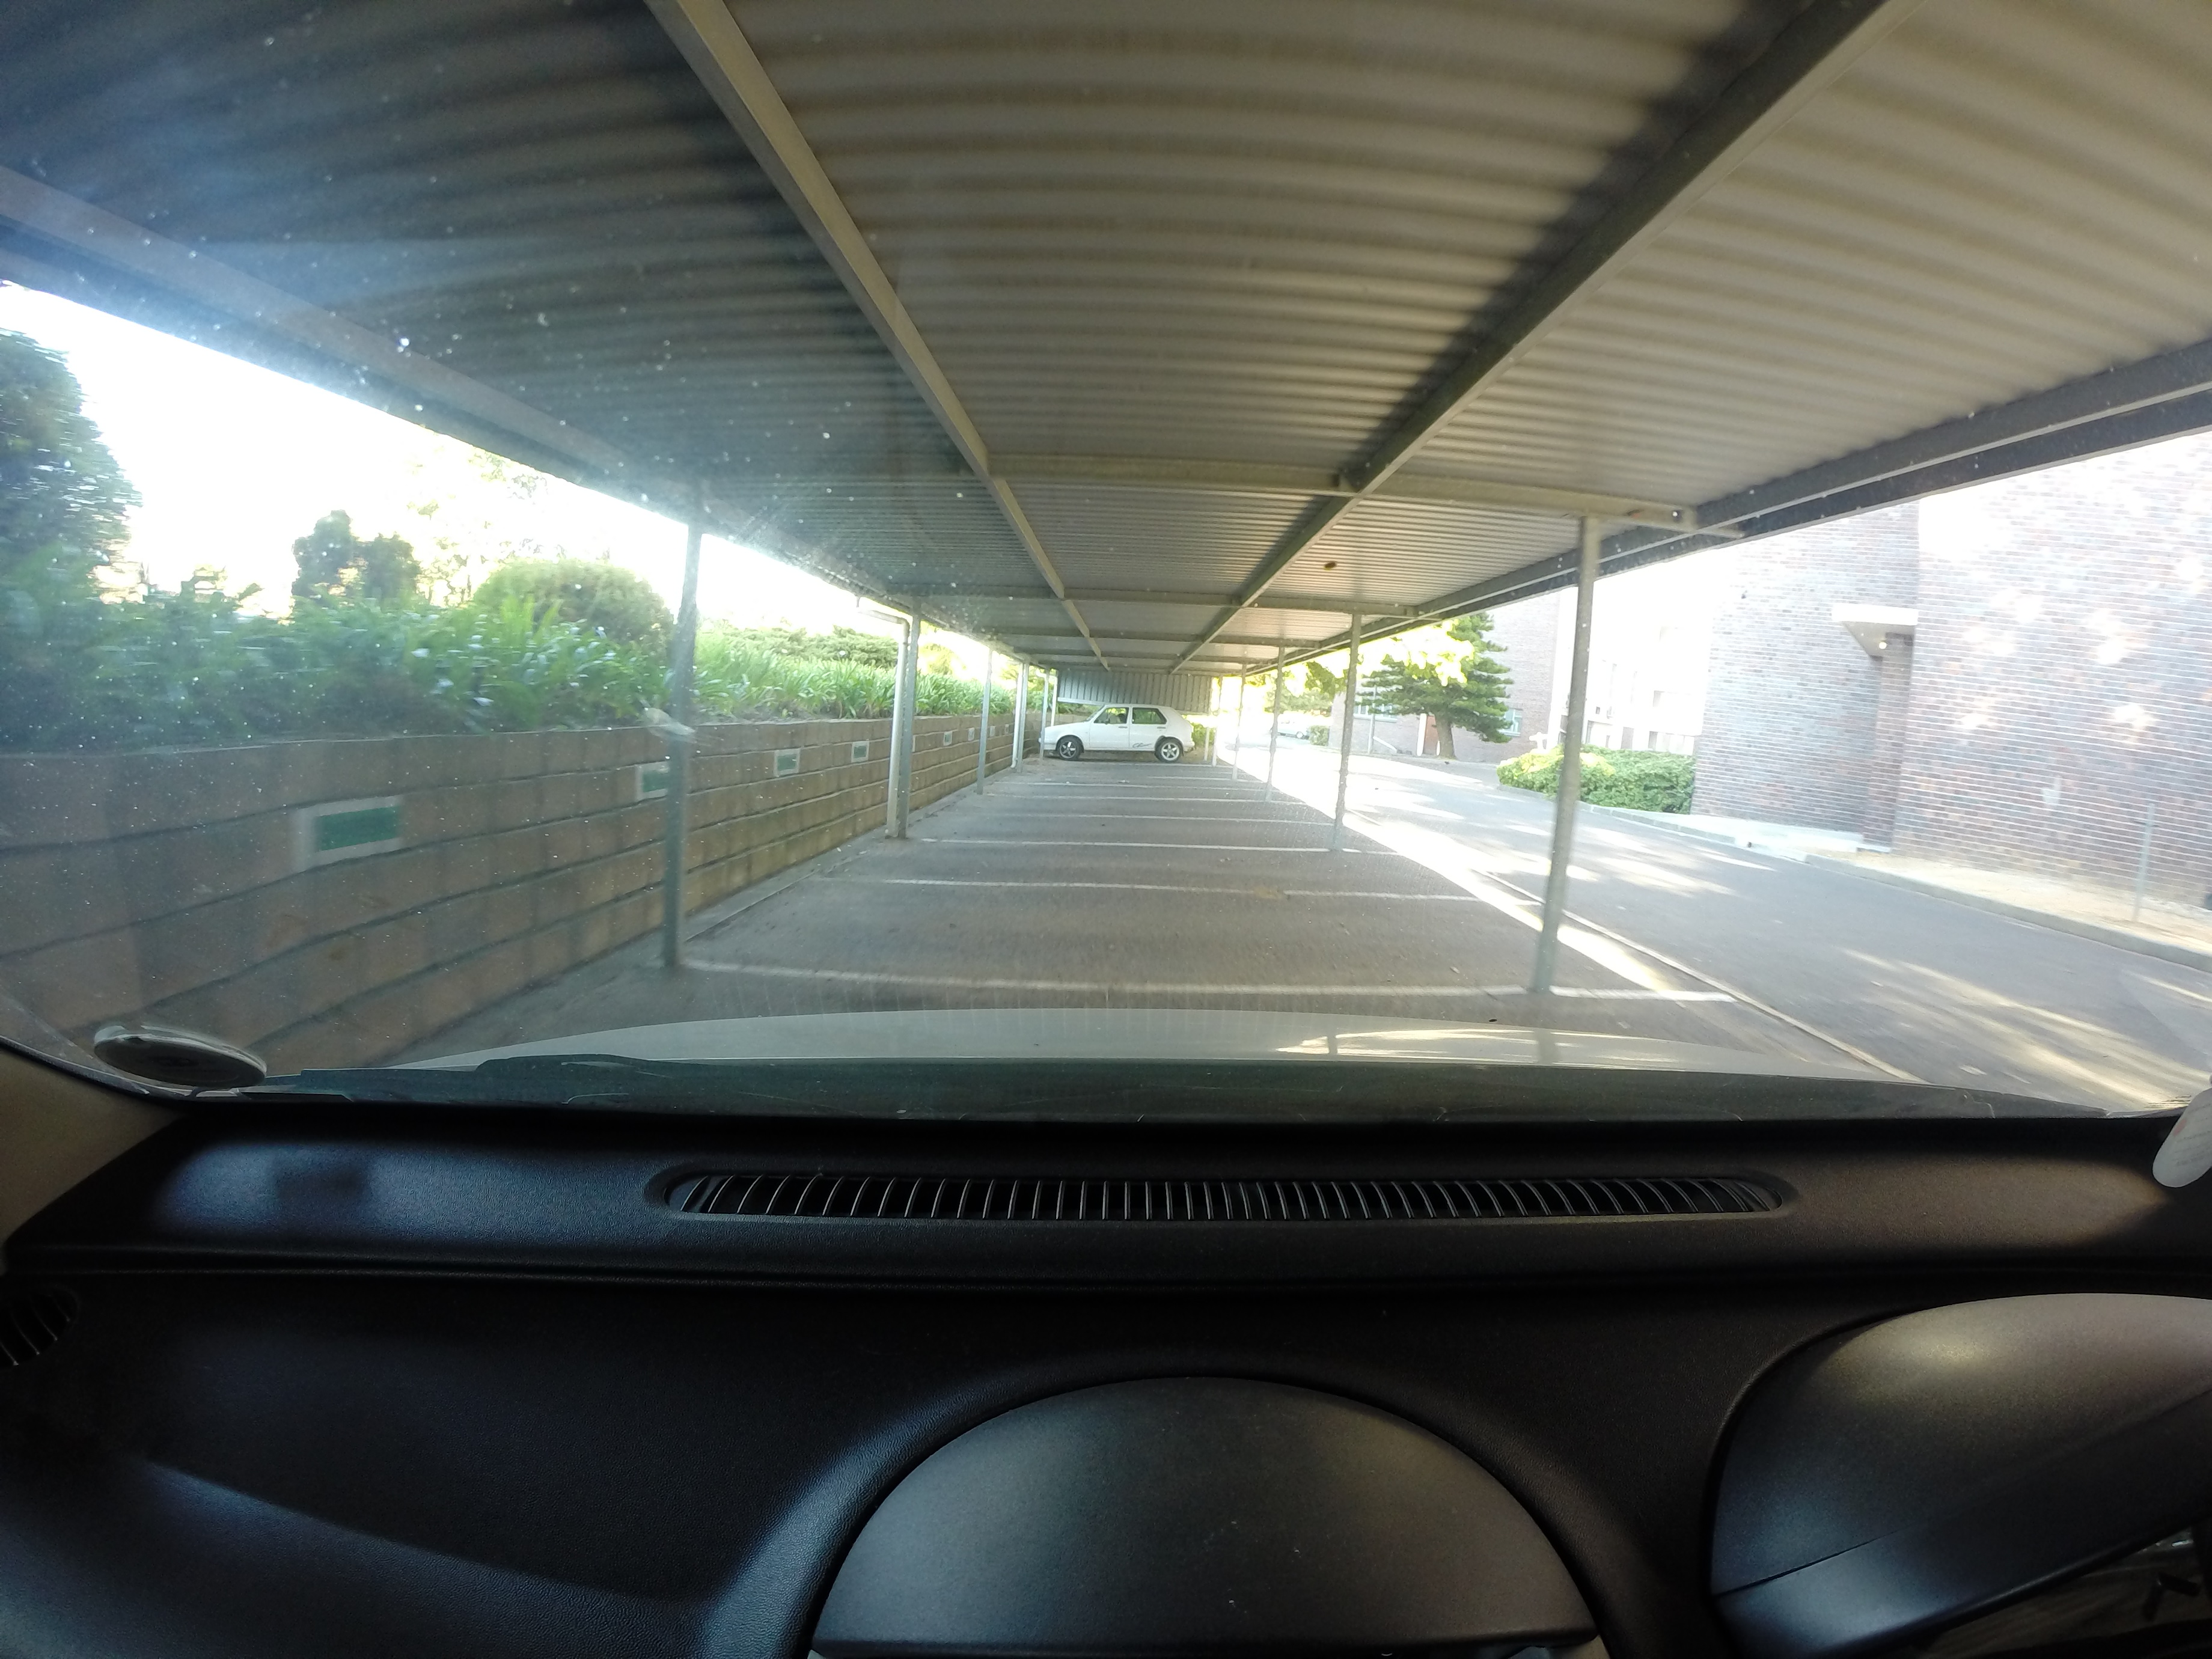pothole: (1237, 887, 1305, 904)
